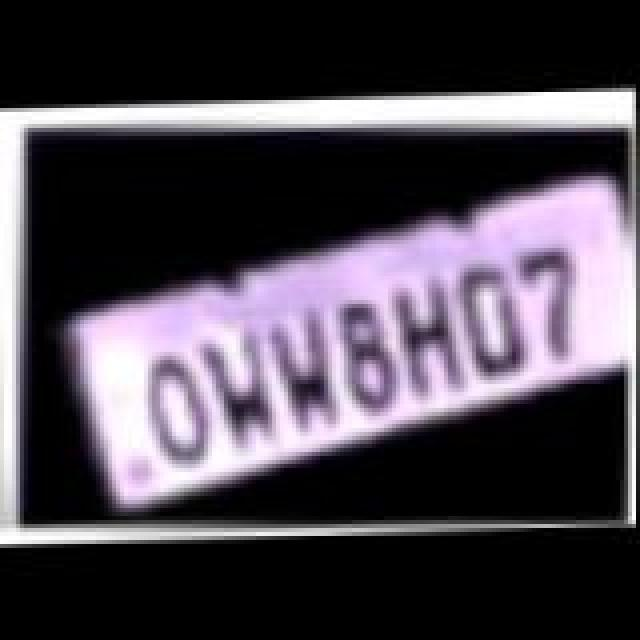7: (504, 242, 604, 362)
8: (316, 294, 416, 418)
D: (438, 258, 542, 378)
H: (370, 274, 482, 402)
O: (126, 348, 234, 468)
W: (248, 306, 364, 438), (188, 326, 300, 450)
